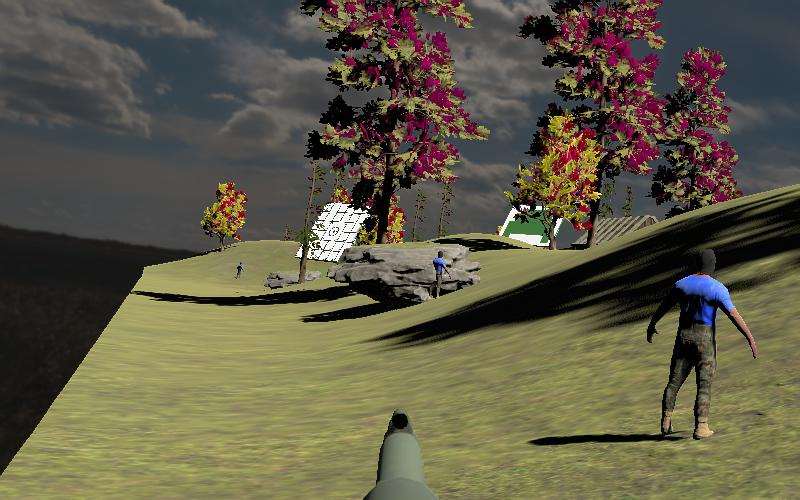Human: (643, 248, 760, 440), (429, 249, 453, 302)
